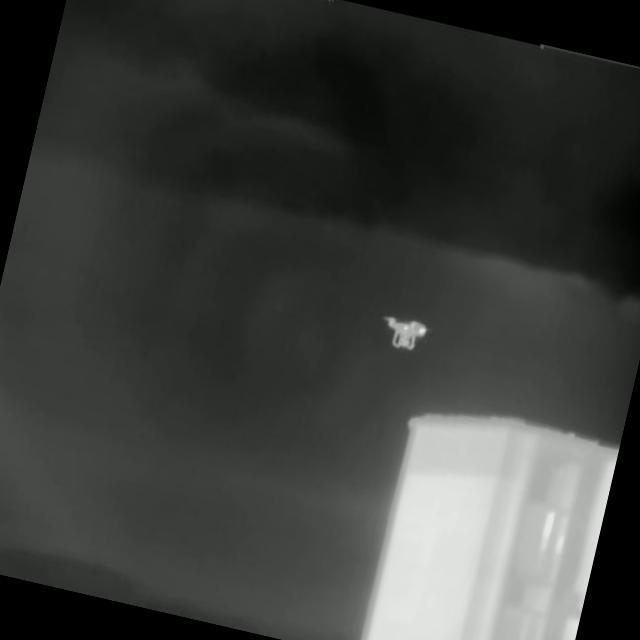DRONE: (379, 309, 432, 352)
